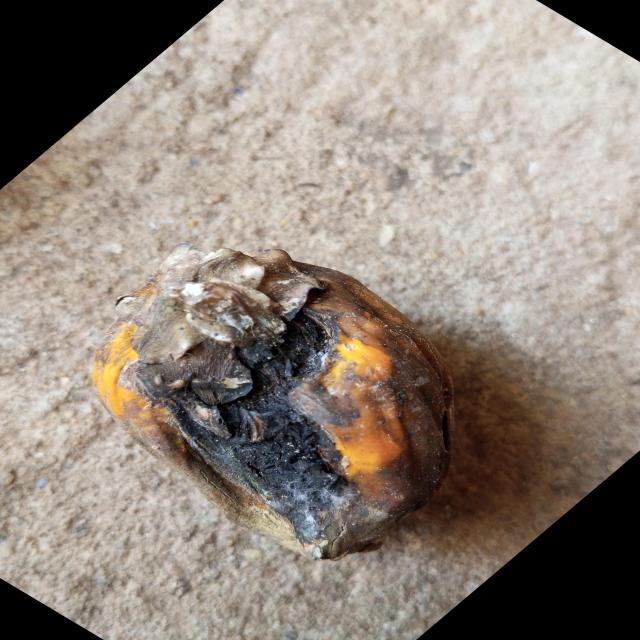damaged: (87, 247, 456, 564)
